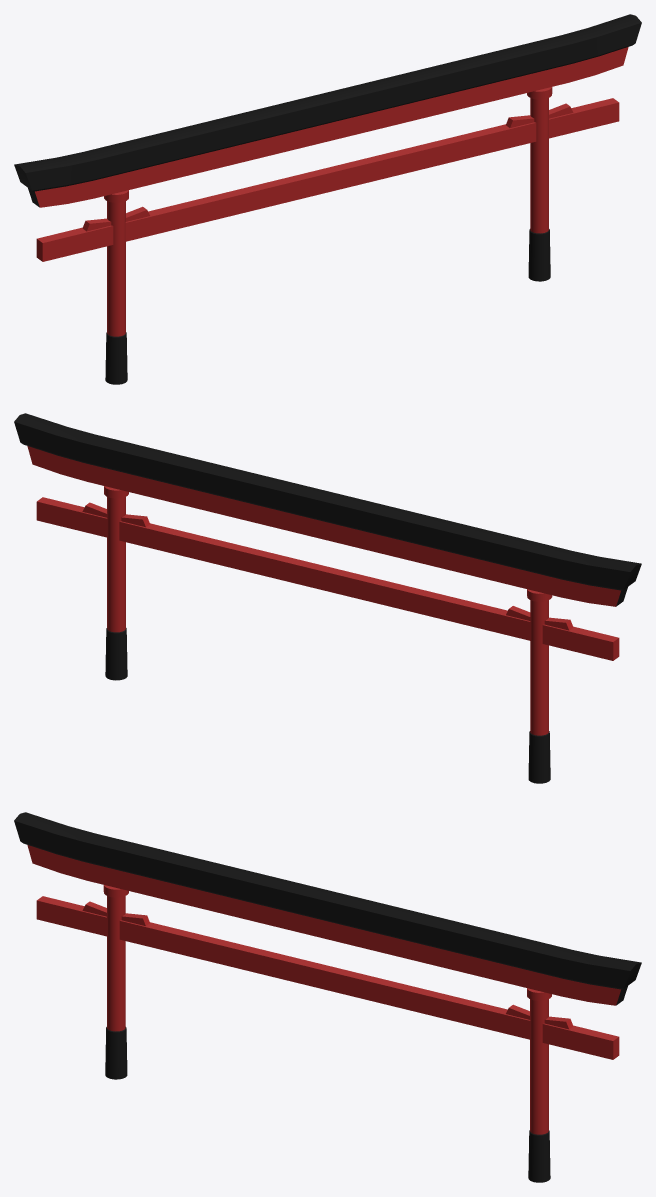
Rendered from Japan_Torii_Arch.FBX.
3 renders of one model, top to bottom at view 1: azimuth 30°, elevation 25°; view 2: azimuth 150°, elevation 25°; view 3: azimuth 330°, elevation 25°, orthographic.
Parts seen in each view (by area): view 1: Box015; view 2: Box015; view 3: Box015.
Part boxes in pixels (x1=…): Box015: x1=14, y1=14, x2=641, y2=384; Box015: x1=14, y1=413, x2=641, y2=783; Box015: x1=14, y1=812, x2=641, y2=1182.
Size of the model in its own units: 778 by 286 by 27.72.
